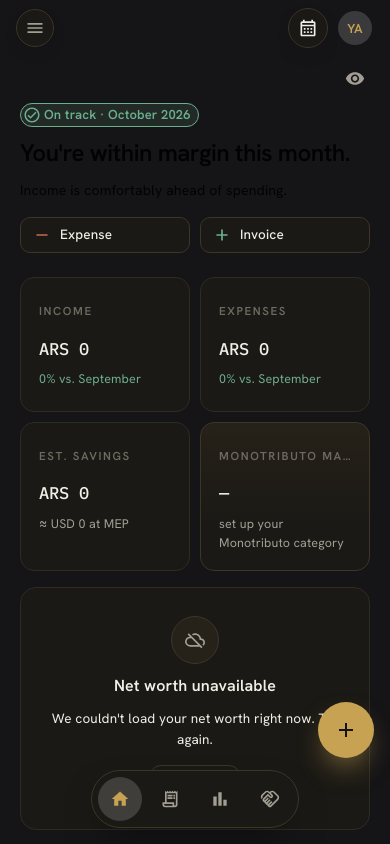
Test: the drawer hides Monotributo when the module is disabled (ADR-126/160)
This screenshot has width=390, height=844.
Click the button named "Open menu".
click(35, 28)  # box [16, 9, 54, 47]
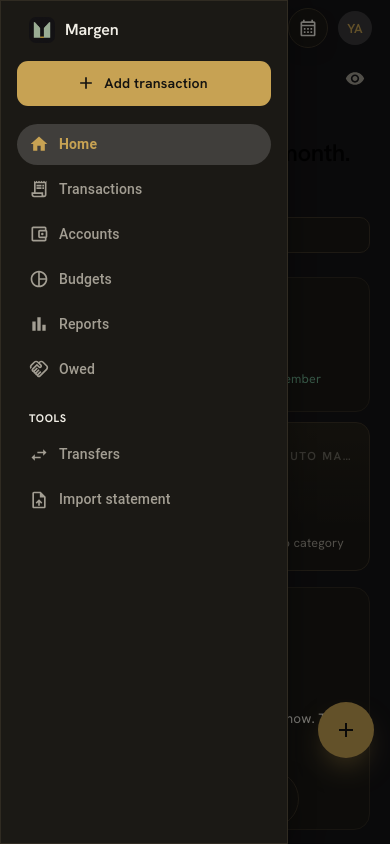
Check: the link "Transfers" is shown, box [29, 444, 120, 464]
Check: the link "Import statement" is shown, box [29, 490, 171, 510]
